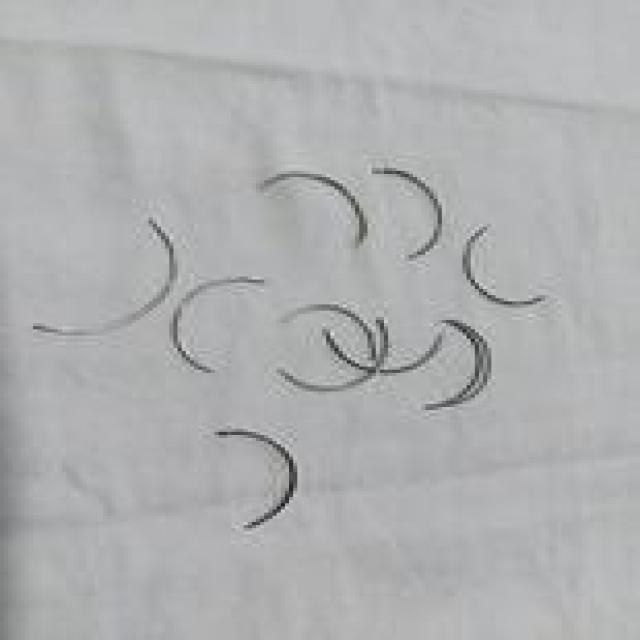Needle: (29, 214, 182, 339), (170, 273, 268, 376), (256, 168, 372, 248), (215, 426, 302, 532), (277, 314, 392, 394), (458, 220, 549, 308), (421, 316, 496, 414), (372, 165, 446, 262), (417, 316, 487, 414), (322, 323, 446, 376), (281, 302, 380, 366)
